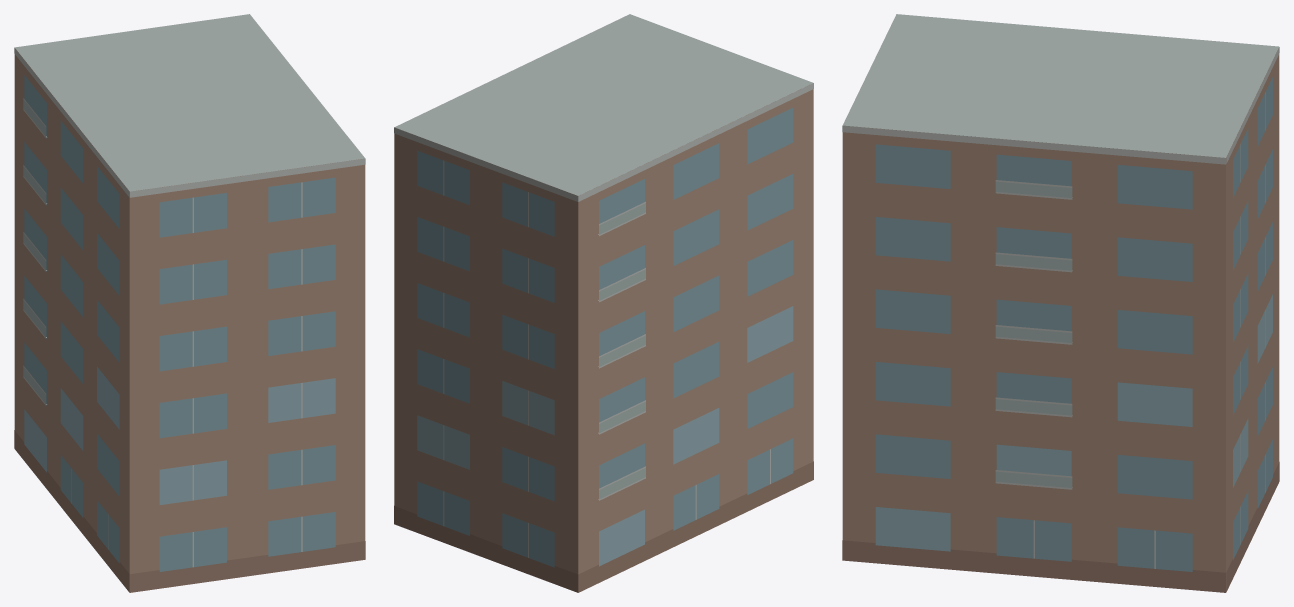
Rendered from survey-upis-32885876.glb.
3 renders of one model, left to right at view 1: azimuth 30°, elevation 25°; view 2: azimuth 150°, elevation 25°; view 3: azimuth 270°, elevation 25°, orthographic. The views are drawn at different scales.
Parts seen in each view (by area): view 1: survey-upis-32885876.tmp; view 2: survey-upis-32885876.tmp; view 3: survey-upis-32885876.tmp.
Part boxes in pixels (bbox=[...]): survey-upis-32885876.tmp: bbox=[14, 14, 365, 592]; survey-upis-32885876.tmp: bbox=[394, 14, 813, 592]; survey-upis-32885876.tmp: bbox=[842, 14, 1279, 592].
Bounding box in the file's own units: 11.29 × 15.9 × 14.49.
